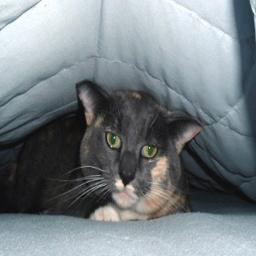catnose: (118, 166, 137, 187)
